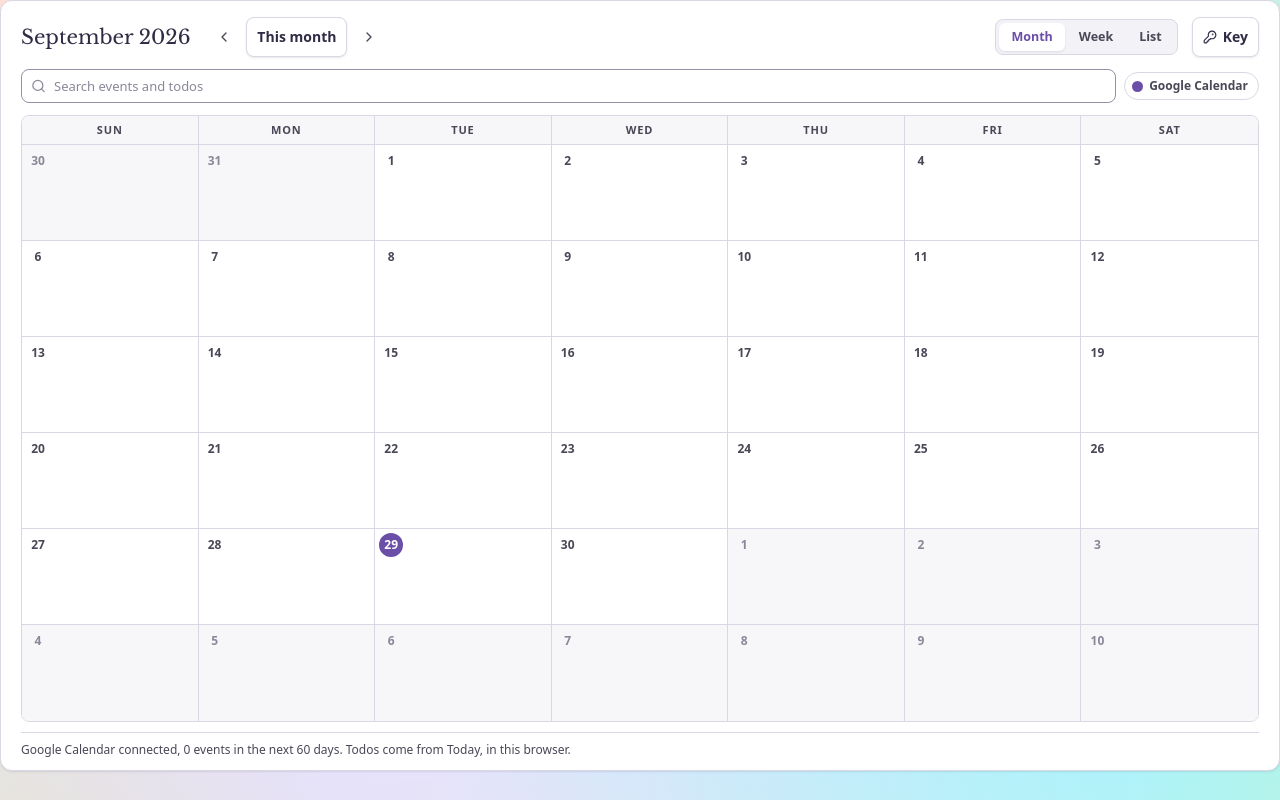
Test: the month calendar › moves a month back and forward, and This month returns
The image size is (1280, 800).
Click the button named "Next month": {"x": 369, "y": 37} [351,19,387,55]
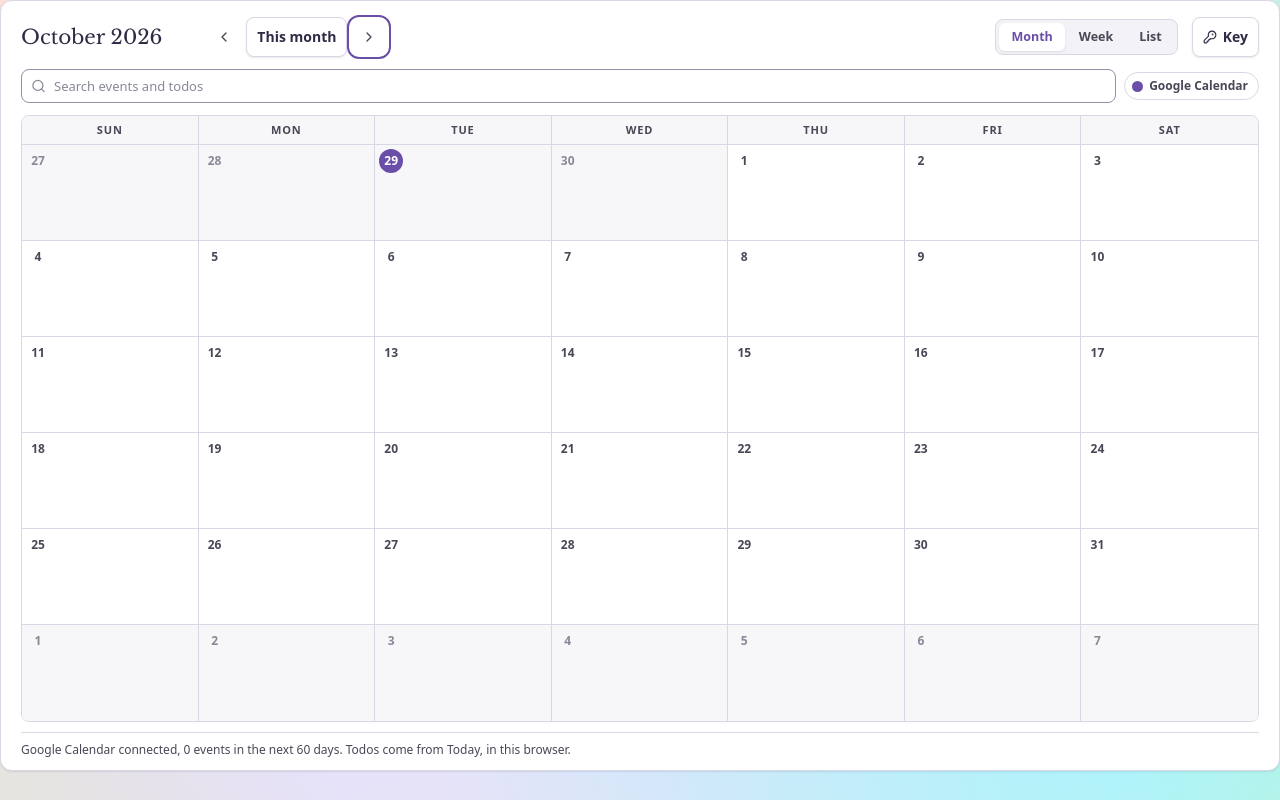
Click the button named "Previous month": {"x": 224, "y": 37} [206,19,242,55]
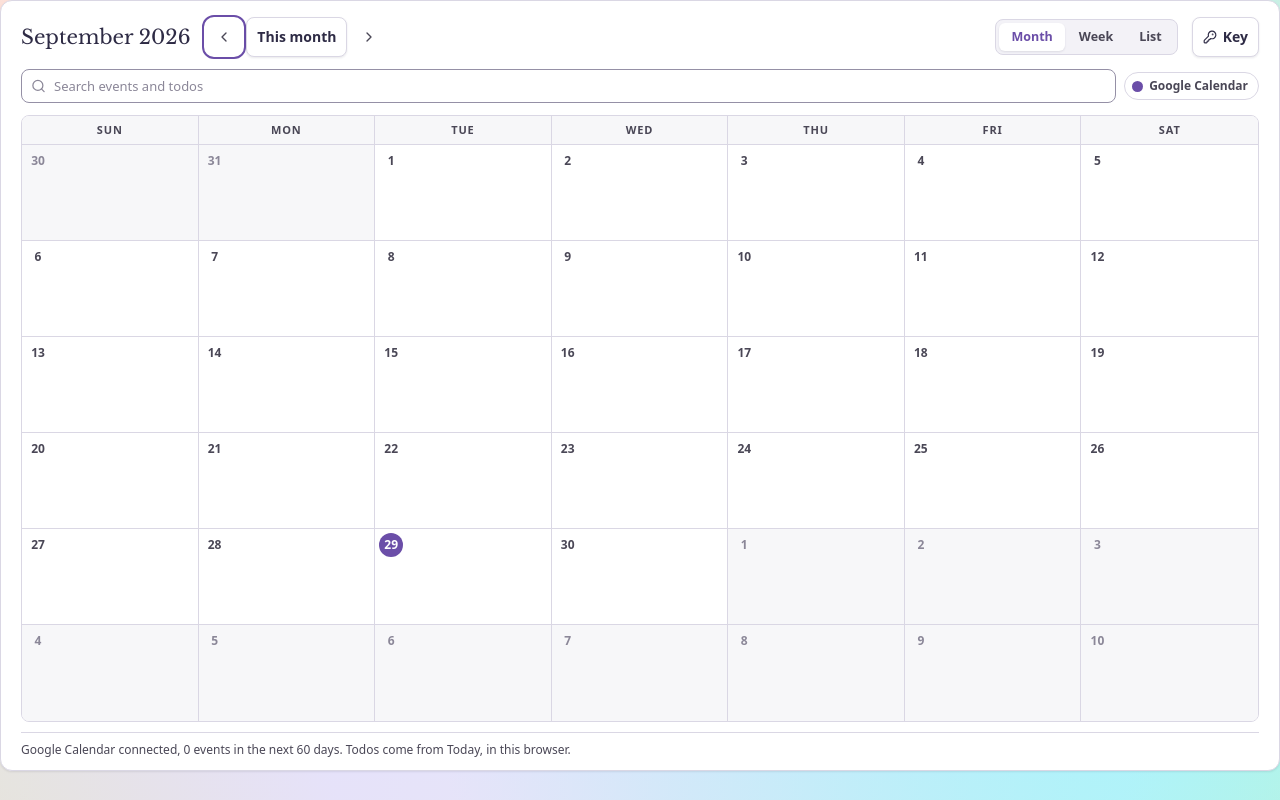
Click the button named "Previous month": {"x": 224, "y": 37} [206,19,242,55]
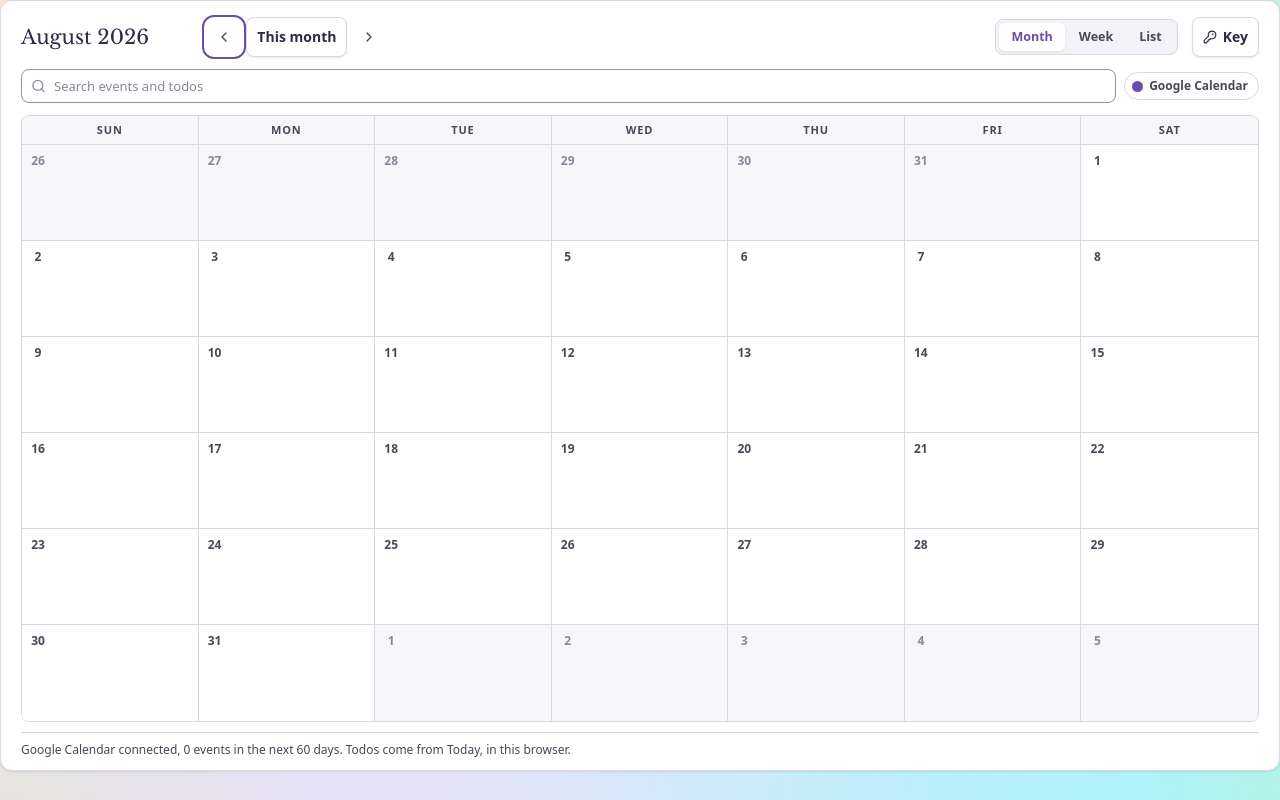
Click the button "This month": {"x": 297, "y": 37} [246,17,348,57]
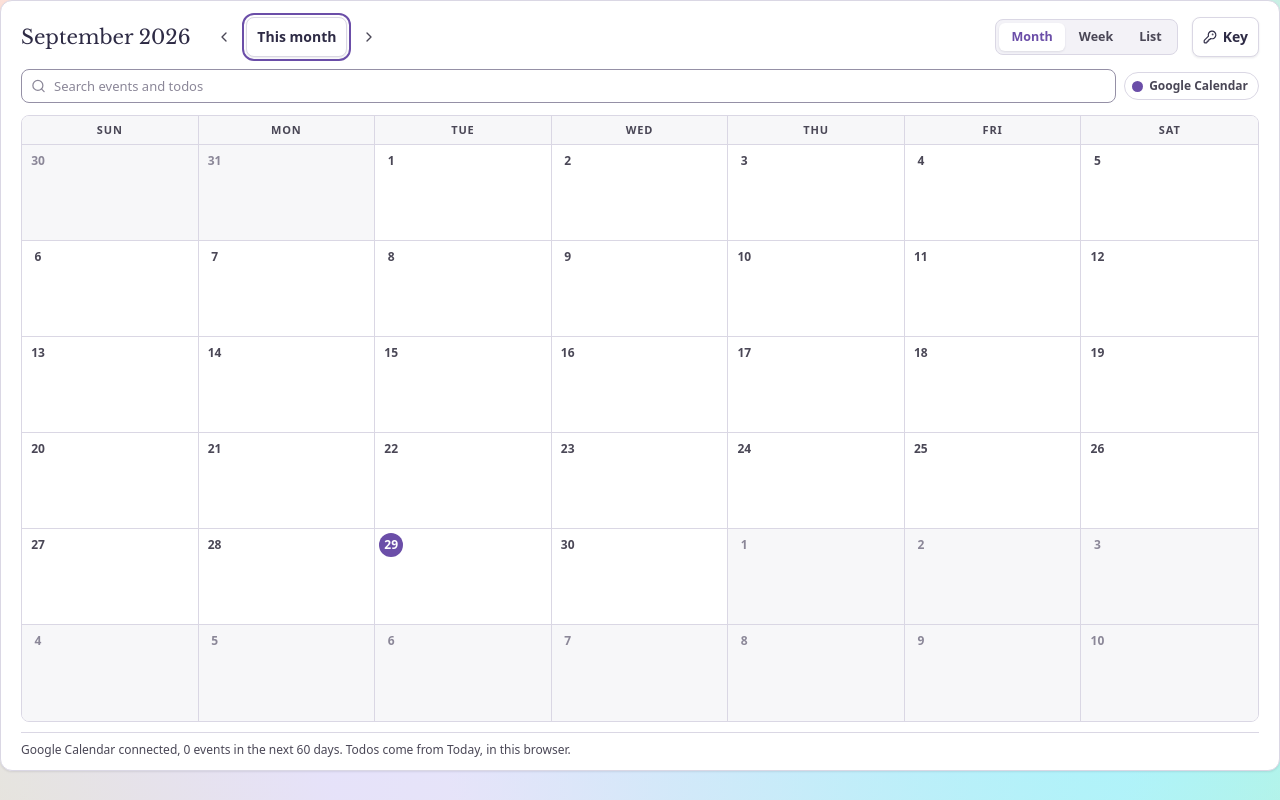
Check: the heading "September 2026" is shown, box [21,25,192,49]
